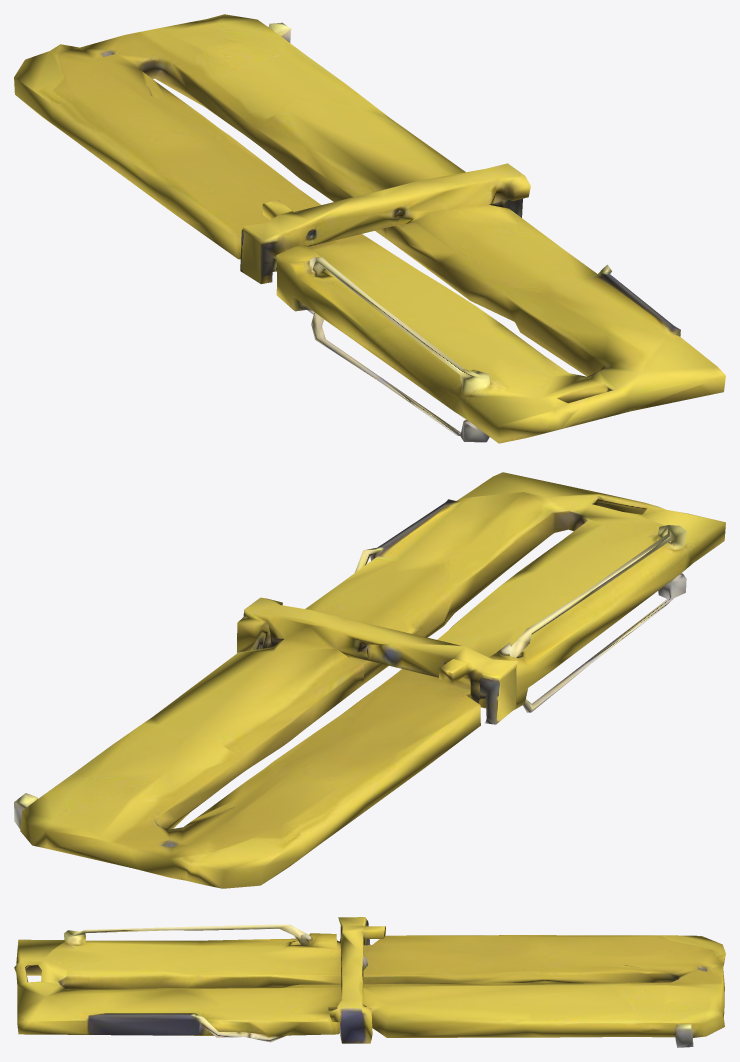
Rendered from scoop.glb.
3 renders of one model, top to bottom at view 1: azimuth 30°, elevation 25°; view 2: azimuth 150°, elevation 25°; view 3: azimuth 270°, elevation 25°, orthographic. The views are drawn at different scales.
Visible parts, largest first — view 1: tripo_node_c1caa150-8d96-4ee6-b0f3-713afd0bc946; view 2: tripo_node_c1caa150-8d96-4ee6-b0f3-713afd0bc946; view 3: tripo_node_c1caa150-8d96-4ee6-b0f3-713afd0bc946.
Part boxes in pixels (x1,y1,x2,y2): tripo_node_c1caa150-8d96-4ee6-b0f3-713afd0bc946: (14, 14, 725, 443); tripo_node_c1caa150-8d96-4ee6-b0f3-713afd0bc946: (14, 472, 725, 888); tripo_node_c1caa150-8d96-4ee6-b0f3-713afd0bc946: (14, 917, 725, 1047).
Bounding box in the file's own units: 0.6277 × 0.1989 × 2.03.
Materials: 1 (1 with a texture image).
